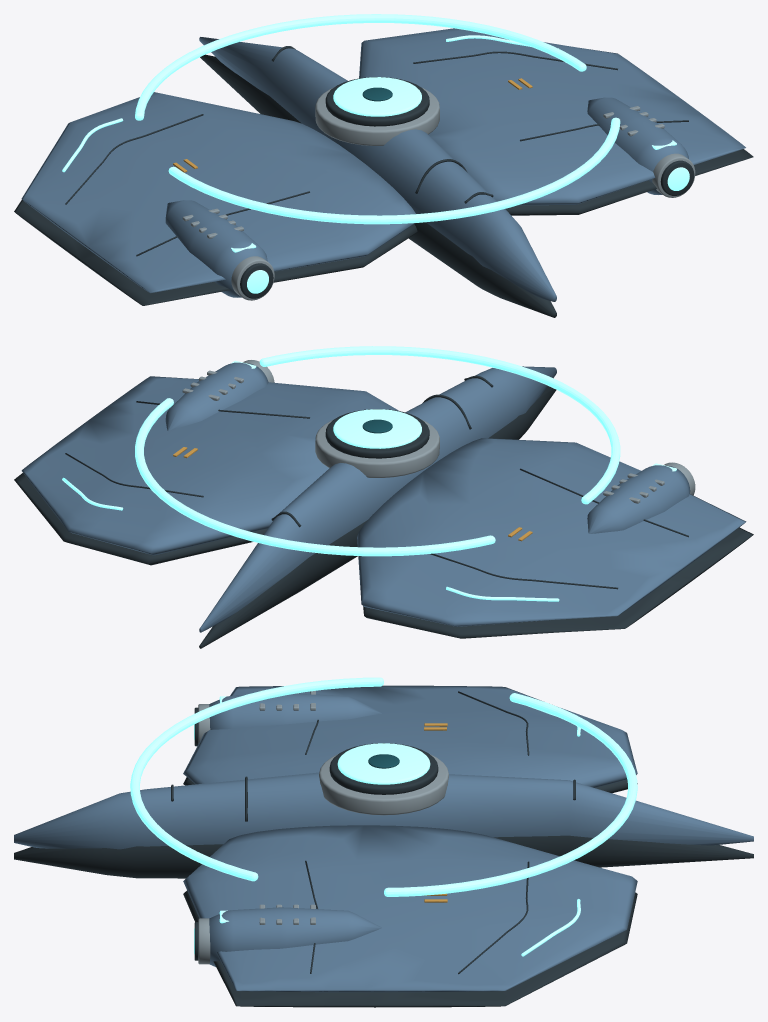
The model's file is boss-5.glb.
3 views of the same model, one above another, from view 1: azimuth 30°, elevation 25°; view 2: azimuth 150°, elevation 25°; view 3: azimuth 270°, elevation 25° (orthographic). The views are drawn at different scales.
Visible parts, largest first — view 1: SM_Wing_Left, SM_Wing_Right, SM_Hull, SM_Engine_Left, SM_Engine_Right, SM_Shield_Left, SM_Shield_Right; view 2: SM_Wing_Left, SM_Wing_Right, SM_Hull, SM_Engine_Left, SM_Shield_Right, SM_Shield_Left, SM_Engine_Right; view 3: SM_Wing_Right, SM_Hull, SM_Wing_Left, SM_Engine_Right, SM_Shield_Left, SM_Shield_Right, SM_Engine_Left.
Boxes of the visible parts, x1=… form: SM_Wing_Left: x1=14, y1=92, x2=417, y2=305; SM_Wing_Right: x1=359, y1=28, x2=753, y2=215; SM_Hull: x1=199, y1=37, x2=556, y2=317; SM_Engine_Left: x1=165, y1=200, x2=274, y2=300; SM_Engine_Right: x1=587, y1=97, x2=695, y2=197; SM_Shield_Left: x1=168, y1=117, x2=620, y2=224; SM_Shield_Right: x1=135, y1=14, x2=586, y2=120; SM_Wing_Left: x1=357, y1=438, x2=753, y2=638; SM_Wing_Right: x1=14, y1=376, x2=398, y2=565; SM_Hull: x1=199, y1=366, x2=556, y2=648; SM_Engine_Left: x1=587, y1=462, x2=695, y2=533; SM_Shield_Right: x1=135, y1=398, x2=495, y2=556; SM_Shield_Left: x1=259, y1=346, x2=620, y2=504; SM_Engine_Right: x1=165, y1=360, x2=274, y2=431; SM_Wing_Right: x1=183, y1=825, x2=637, y2=1007; SM_Hull: x1=14, y1=743, x2=753, y2=878; SM_Wing_Left: x1=183, y1=685, x2=637, y2=793; SM_Engine_Right: x1=194, y1=904, x2=381, y2=966; SM_Shield_Left: x1=130, y1=677, x2=383, y2=881; SM_Shield_Right: x1=384, y1=693, x2=637, y2=896; SM_Engine_Left: x1=194, y1=690, x2=381, y2=746.
Bounding box in the file's own units: 6.97 × 1.2 × 7.
